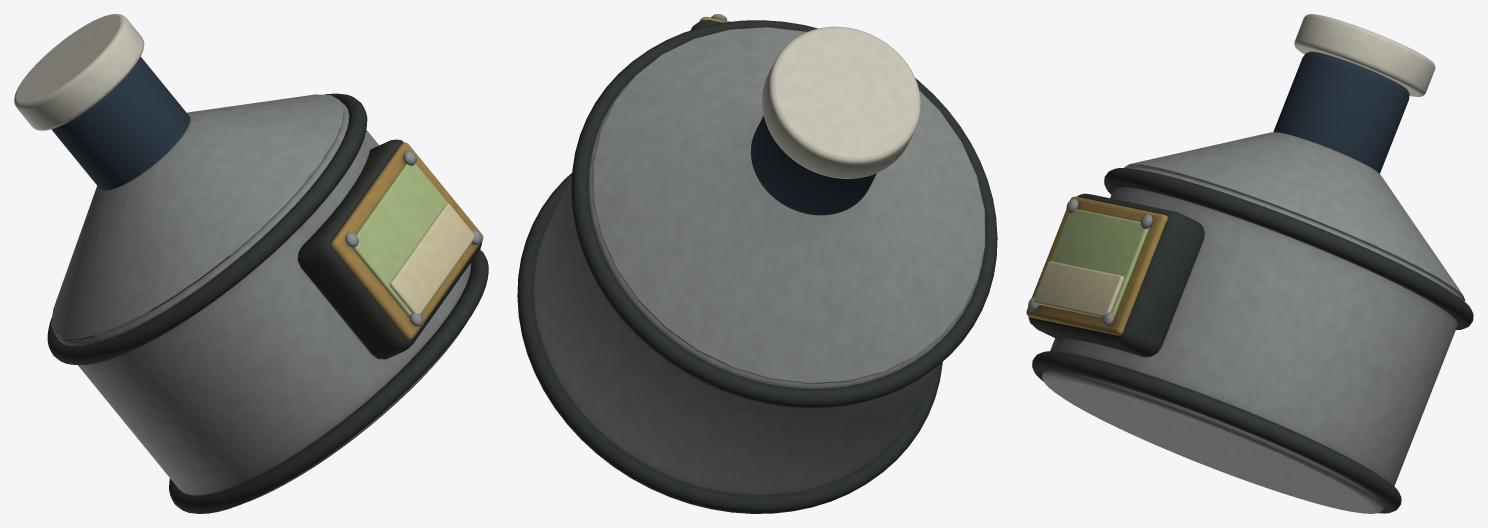
The picture shows the model from 3 angles, left to right: view 1: azimuth 30°, elevation 25°; view 2: azimuth 150°, elevation 25°; view 3: azimuth 270°, elevation 25°; orthographic projection. The views are drawn at different scales.
Visible parts, largest first — view 1: Closed sample vessel; view 2: Closed sample vessel; view 3: Closed sample vessel.
Part boxes in pixels (x1,y1,x2,y2): Closed sample vessel: (14, 14, 488, 513); Closed sample vessel: (517, 14, 997, 513); Closed sample vessel: (1026, 14, 1473, 513).
Bounding box in the file's own units: 1.01 × 1.14 × 1.02.
1 material, 1 textured.
